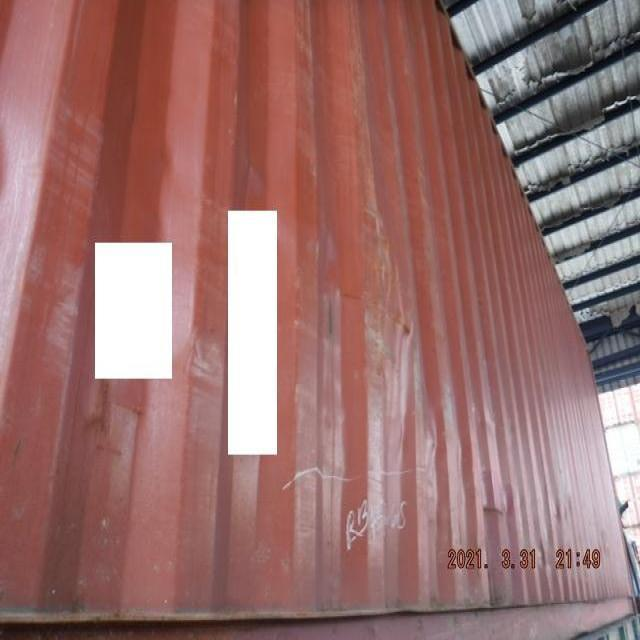Dent: (308, 188, 455, 465)
